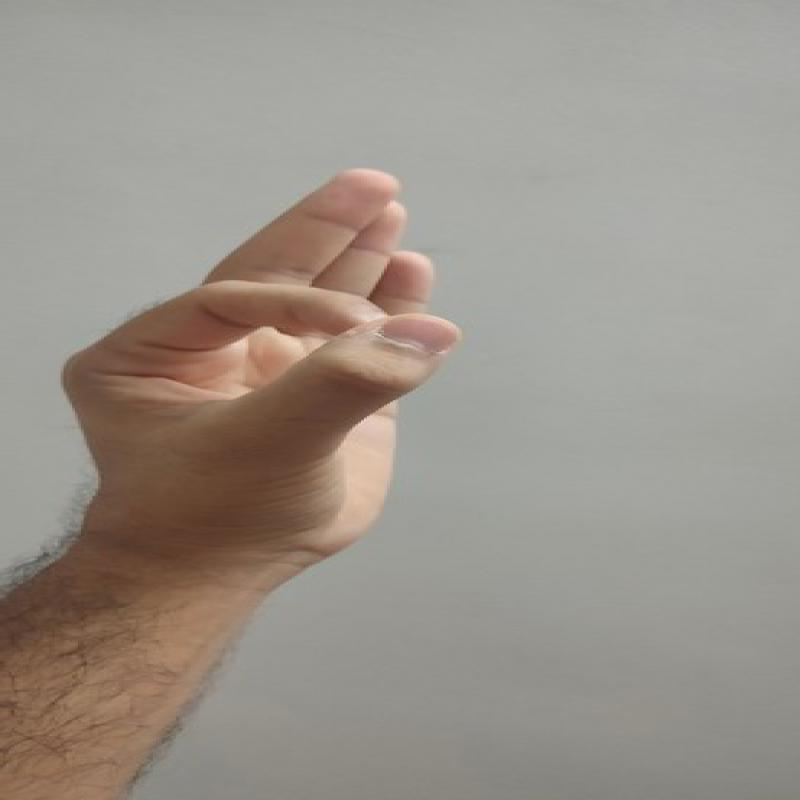Mudraakhyam: (45, 140, 475, 579)
